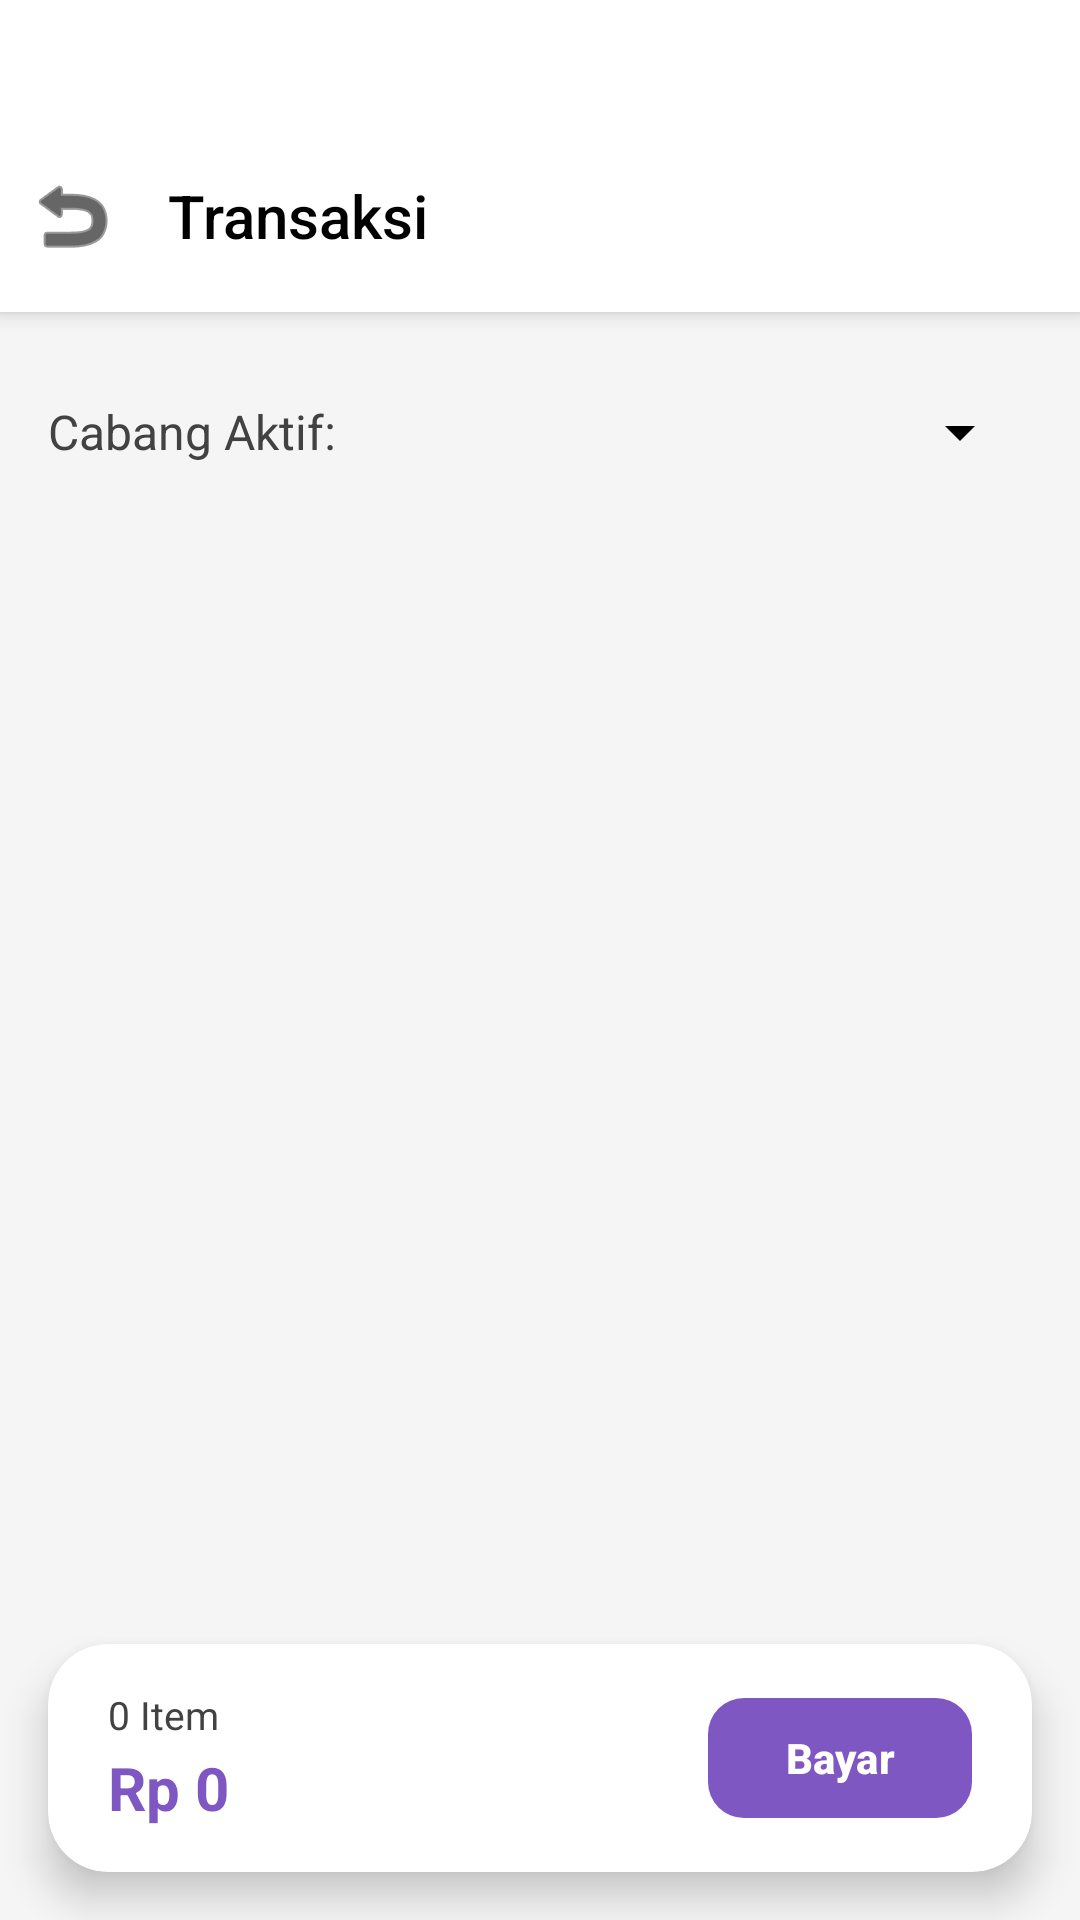

Icon click points for this 1080px×1920px phone screenshot, format [x,y]:
revert: [73,216]
